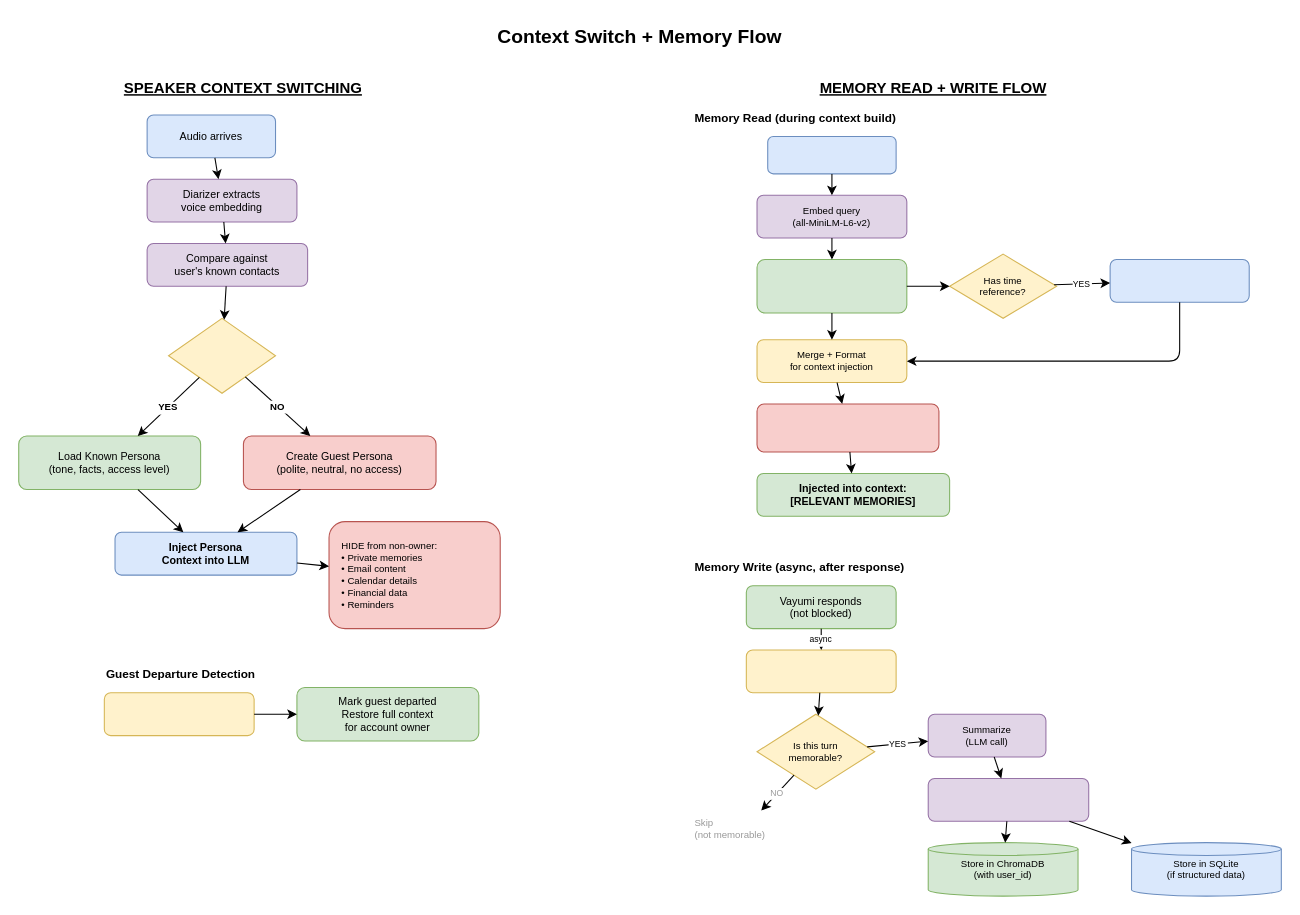
The diagram is 1300 pixels wide and 915 high, and some of its shapes have lost their labels. Each missing label, with the centre of its shape:
"ChromaDB query filter: user_id top_k: 5" belongs at point 831,285.
"Embed text (sentence-transformers)" belongs at point 1008,799.
"Filter by persona access level (owner=all, guest=none)" belongs at point 847,427.
"Match found?" belongs at point 221,355.
"Memory Agent wakes up (async)" belongs at point 820,671.
"Speaker_2 silent for 30 seconds" belongs at point 178,714.
"SQLite query by date + user_id" belongs at point 1179,280.
"User input text" belongs at point 831,154.
